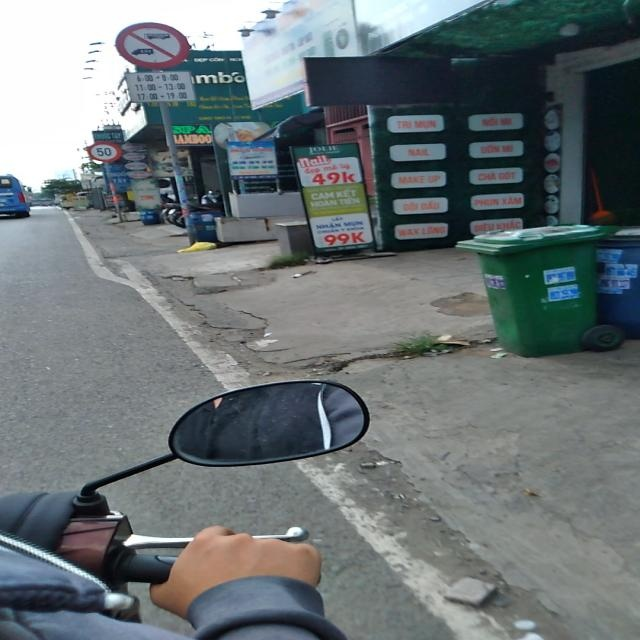bien_cam: (86, 141, 122, 162)
